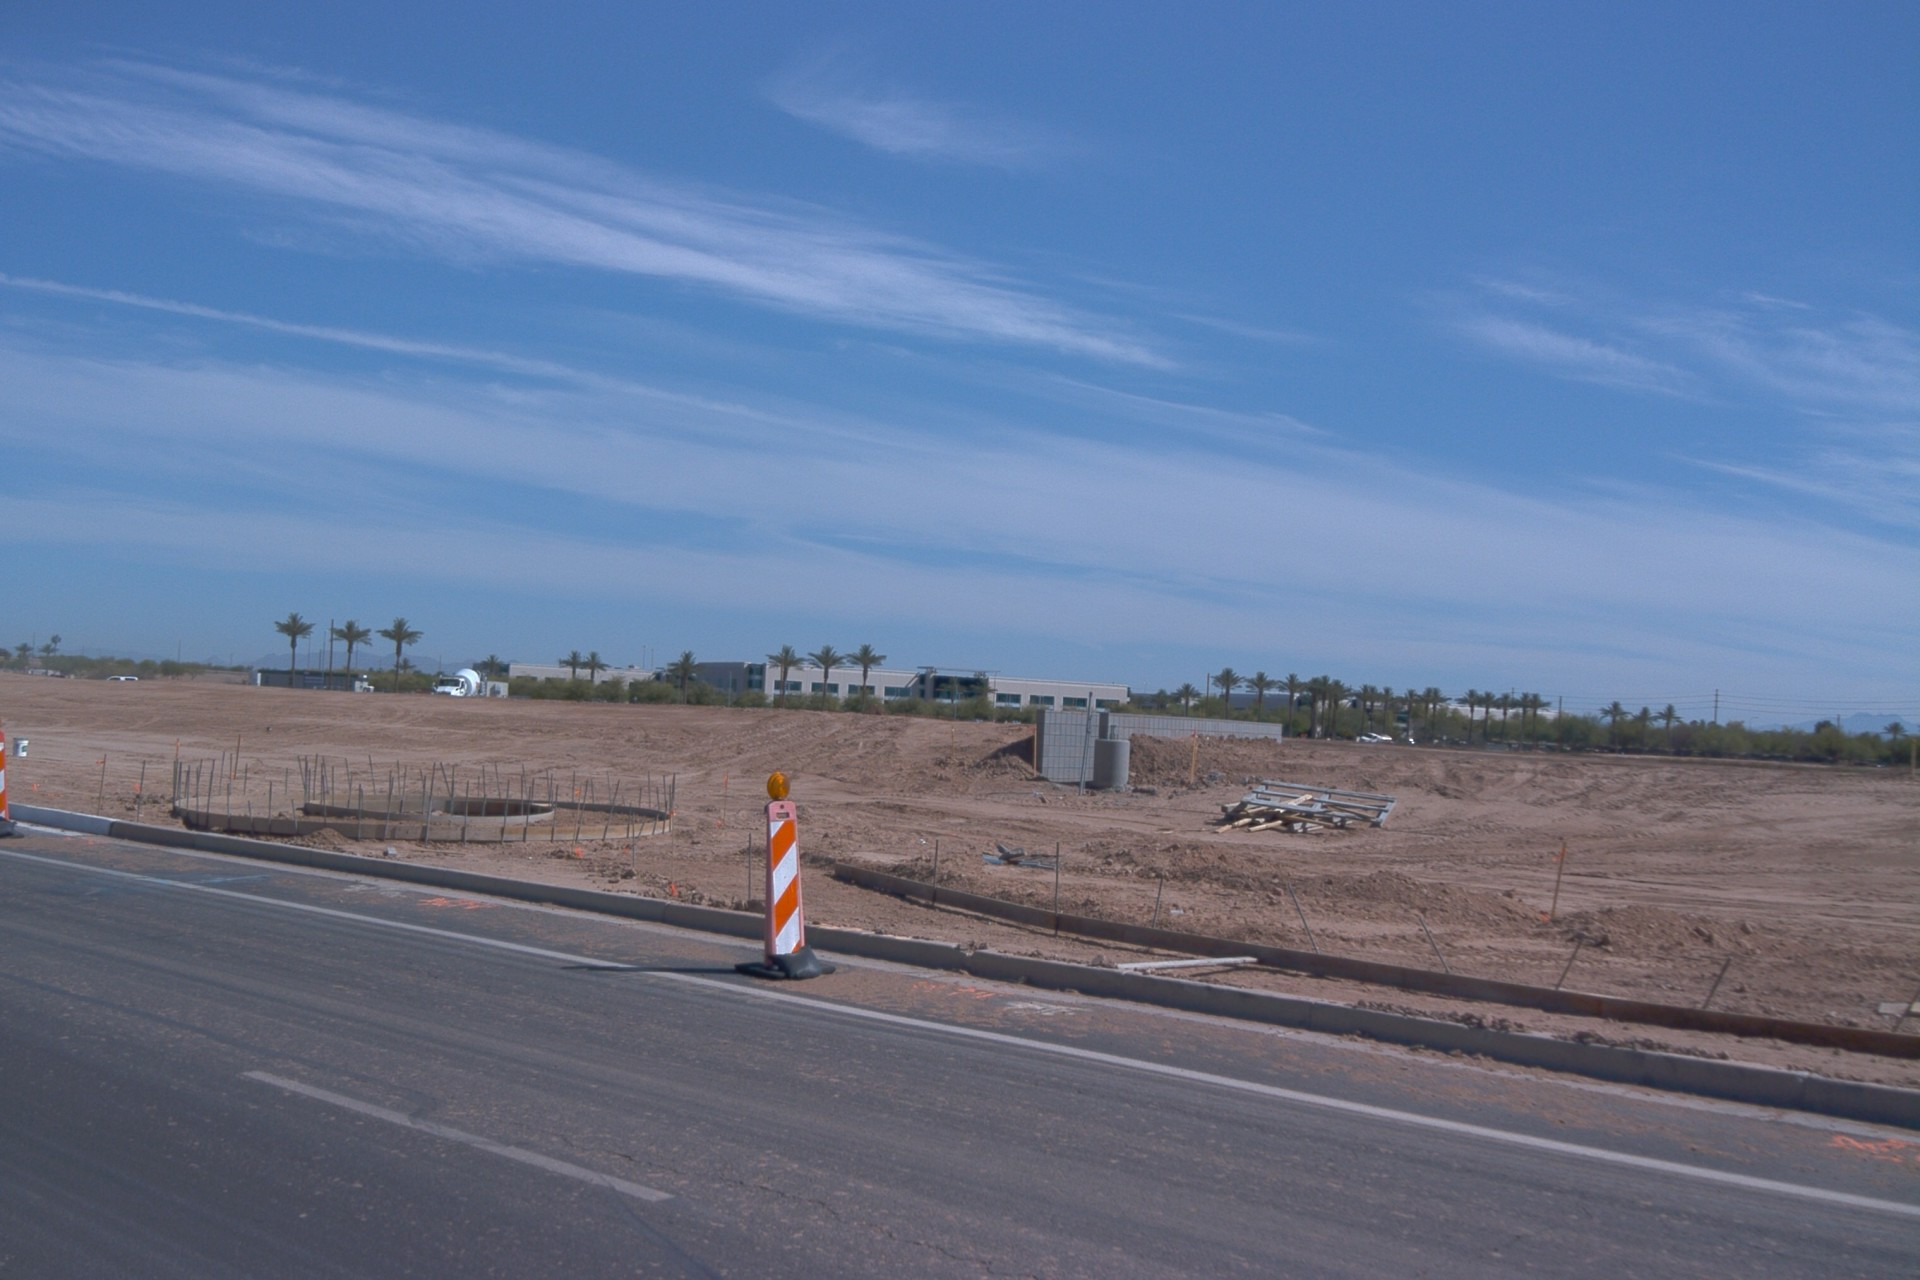TYPE_VEHICLE: (429, 667, 480, 700), (429, 667, 480, 700), (429, 667, 480, 700), (429, 667, 480, 700), (104, 677, 137, 686), (104, 677, 137, 686), (104, 677, 137, 686), (104, 677, 137, 686)
